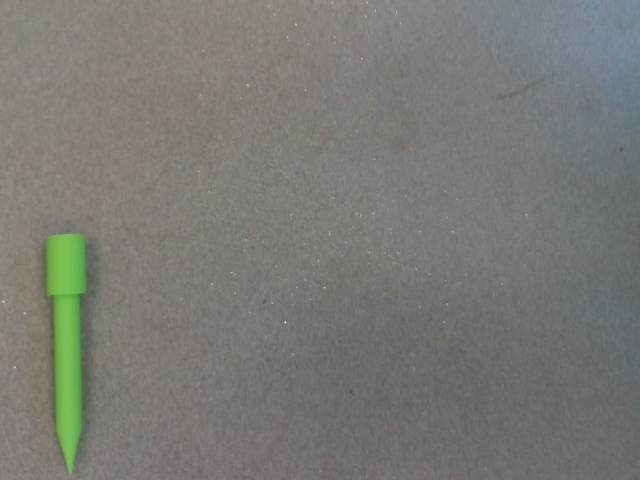Probe: (39, 229, 93, 480)
